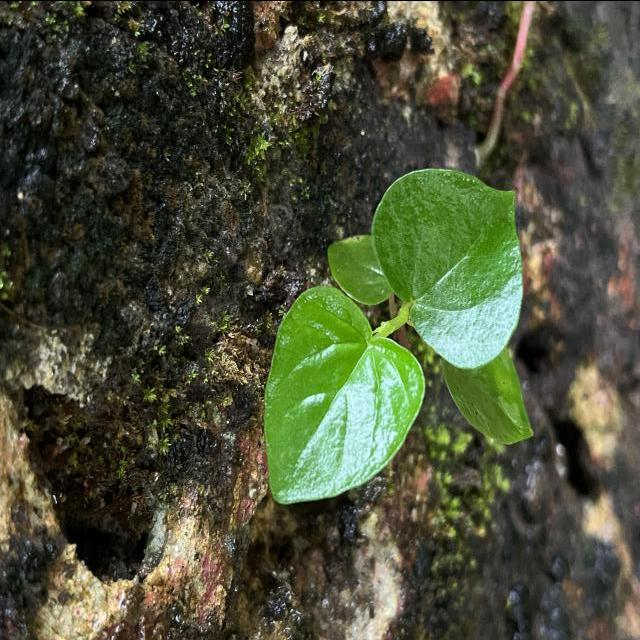Peperomia pellucida: (262, 282, 427, 506), (370, 166, 525, 372)
